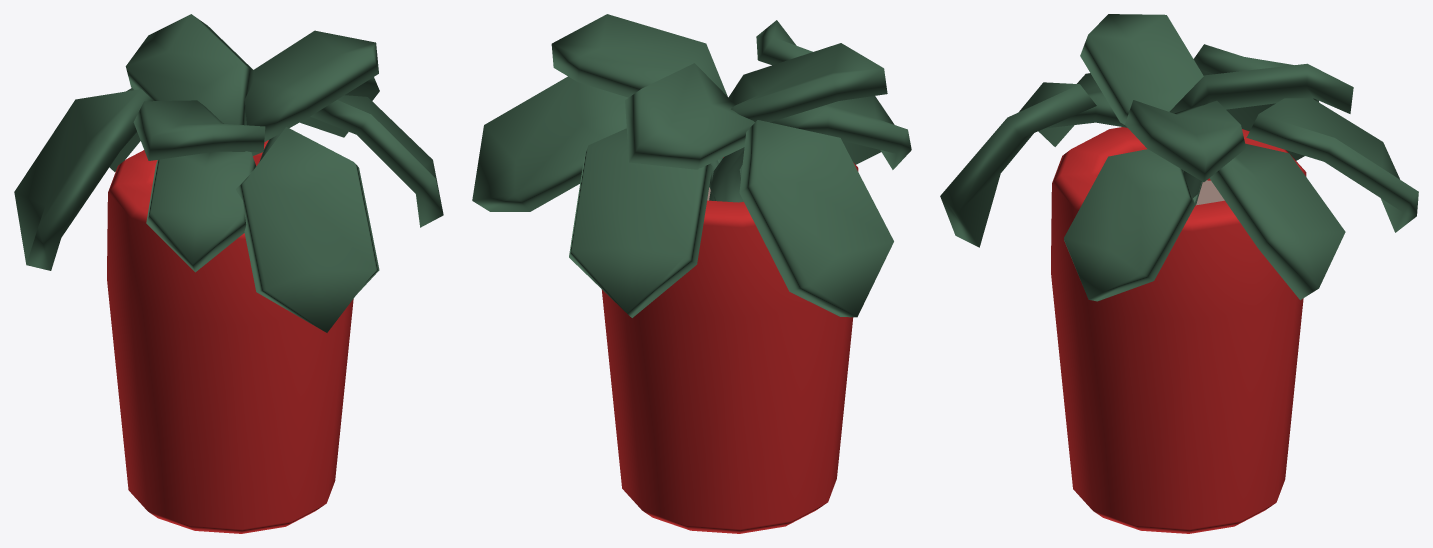
Rendered from flower_014.fbx.
3 views of the same model, side by side, from view 1: azimuth 30°, elevation 25°; view 2: azimuth 150°, elevation 25°; view 3: azimuth 270°, elevation 25° (orthographic). The views are drawn at different scales.
Parts seen in each view (by area): view 1: flower_014; view 2: flower_014; view 3: flower_014.
Part boxes in pixels (<box>): flower_014: <box>14,14,443,533</box>; flower_014: <box>472,14,911,533</box>; flower_014: <box>940,14,1418,533</box>.
Size of the model in its own units: 61.8 by 68.64 by 69.89.
